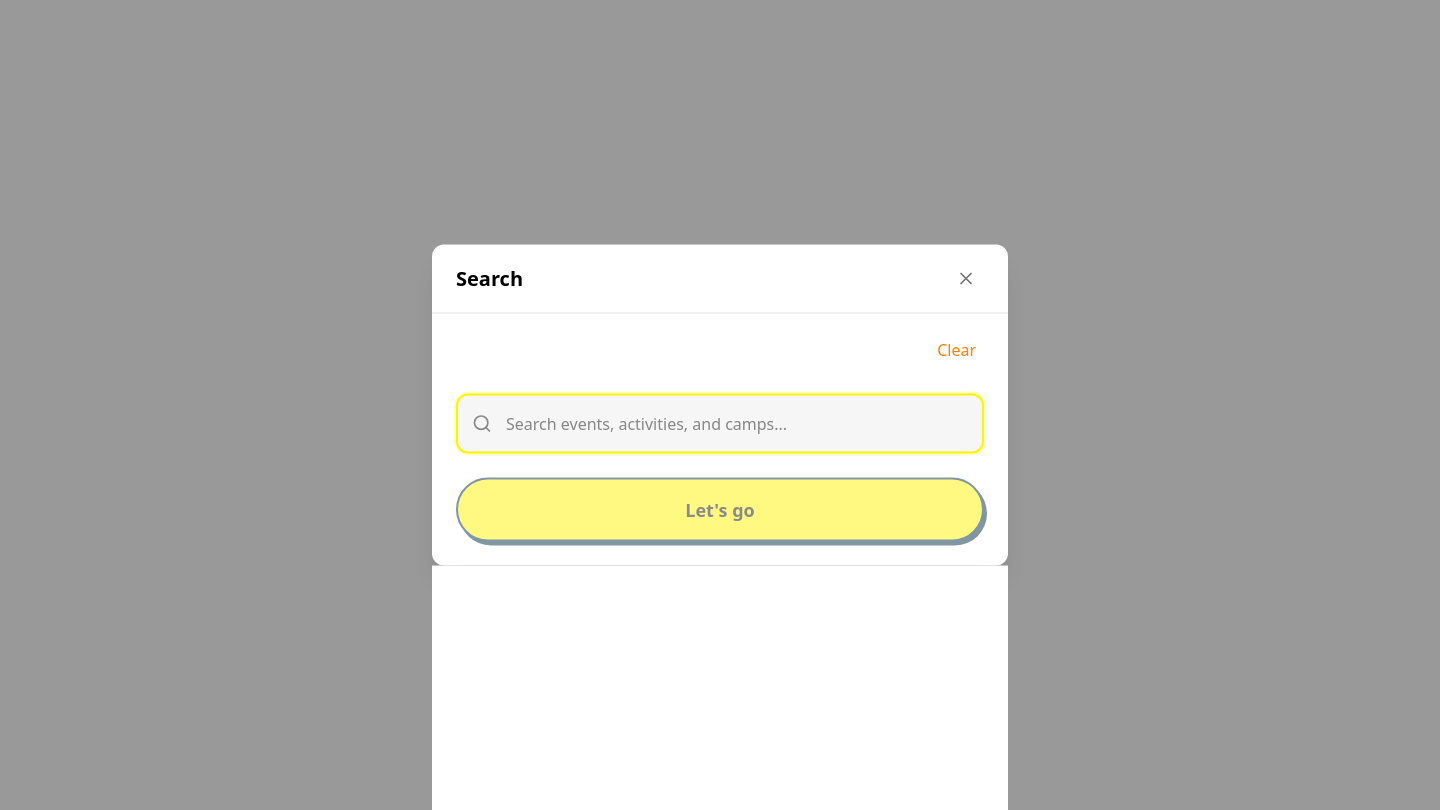
Scenario: SearchModal › enables submit button when input has text
In the search field with placeholder "Search events, activities, and camps...": [720, 424] box [456,394,984,454], type "test"
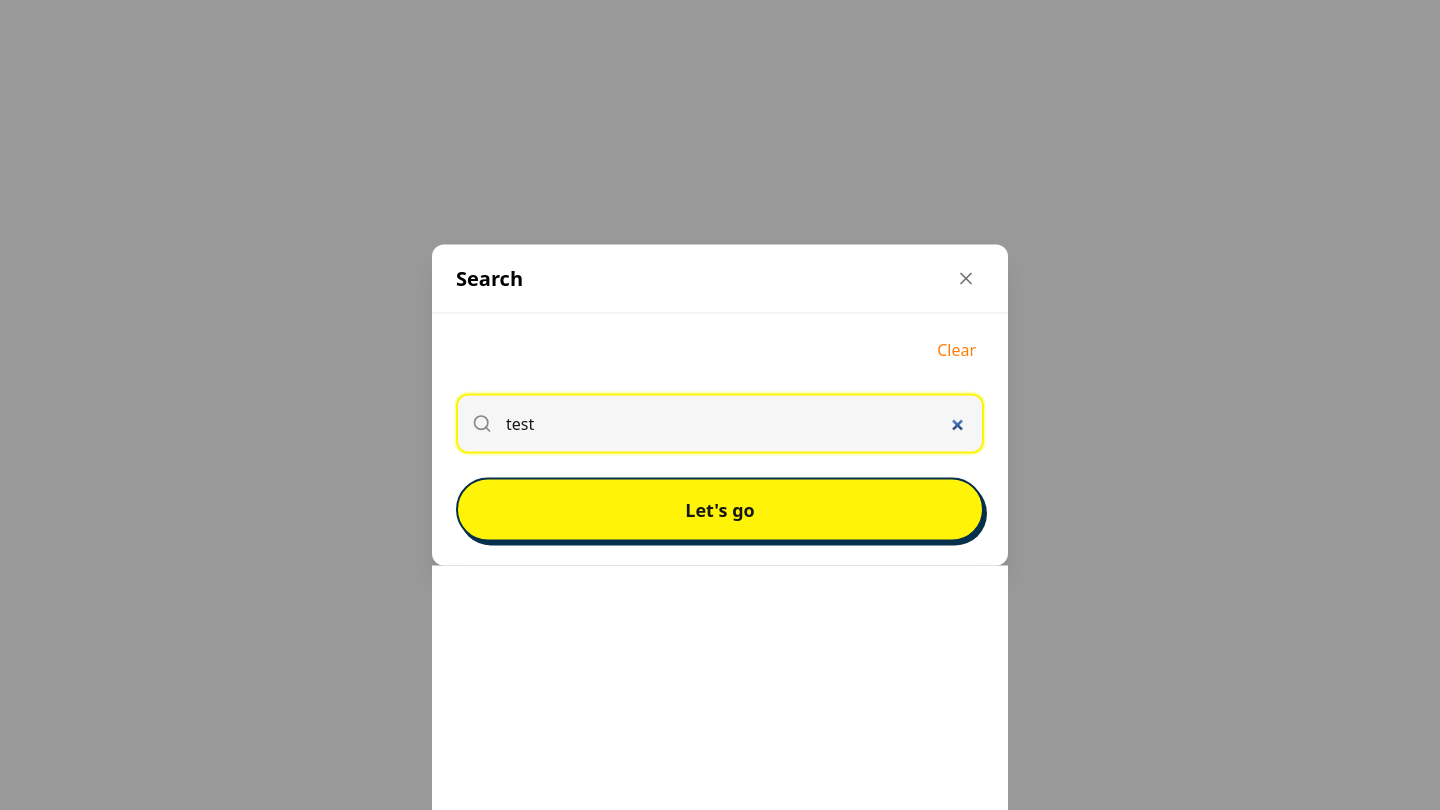
expect the button "Let's go" is enabled: met, box [456,478,984,542]
